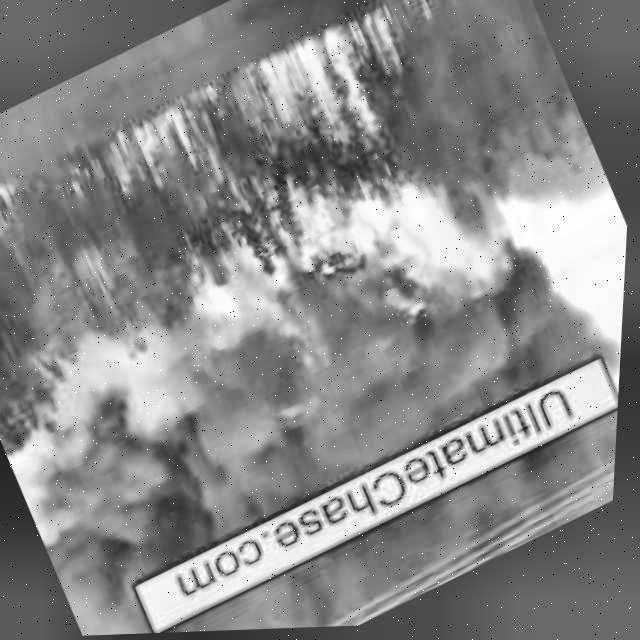Fire: (83, 0, 539, 447), (0, 180, 20, 240)
Smoke: (36, 259, 623, 621), (108, 419, 622, 636)
